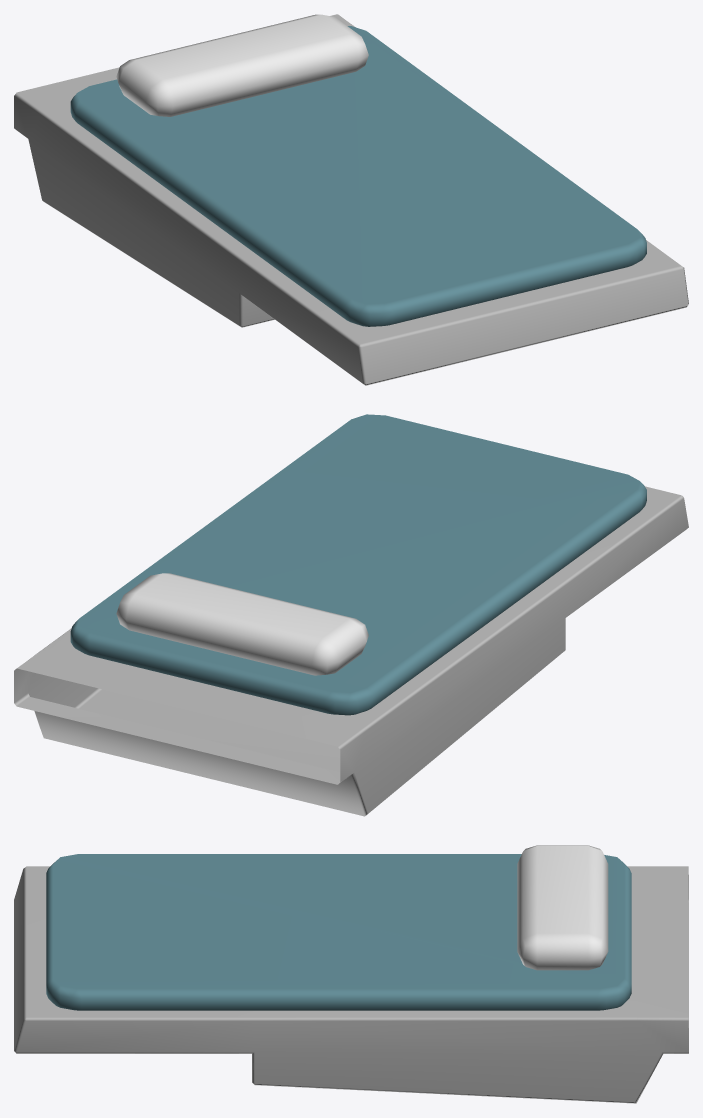
File: Bed.fbx
3 views of the same model, one above another, from view 1: azimuth 30°, elevation 25°; view 2: azimuth 150°, elevation 25°; view 3: azimuth 270°, elevation 25° (orthographic). The views are drawn at different scales.
Parts seen in each view (by area): view 1: Bed; view 2: Bed; view 3: Bed.
Boxes of the visible parts, bbox=[...] form: Bed: bbox=[14, 14, 688, 385]; Bed: bbox=[14, 414, 688, 816]; Bed: bbox=[14, 845, 688, 1103].
Bounding box in the file's own units: 262 × 110 × 487.
